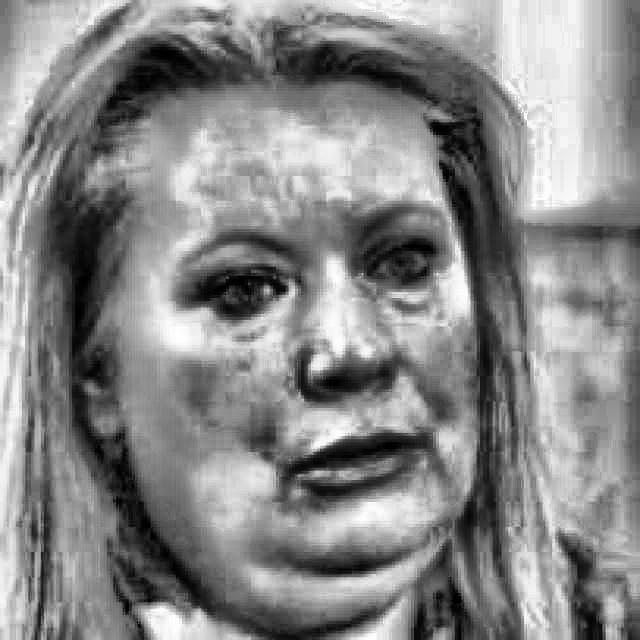sad: (69, 94, 487, 599)
